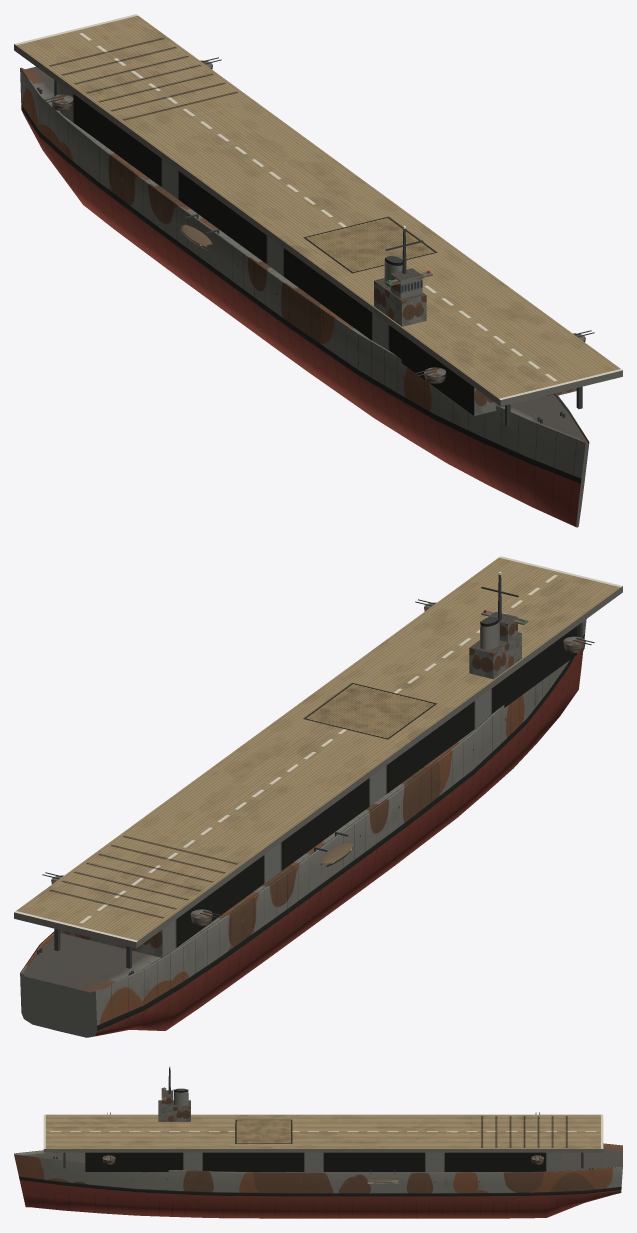
File: carrier.glb
3 renders of one model, top to bottom at view 1: azimuth 30°, elevation 25°; view 2: azimuth 150°, elevation 25°; view 3: azimuth 270°, elevation 25°, orthographic. The views are drawn at different scales.
Parts seen in each view (by area): view 1: hull, ascenseur; view 2: hull, ascenseur; view 3: hull, ascenseur.
Part boxes in pixels (x1=…): hull: x1=14, y1=14, x2=622, y2=527; ascenseur: x1=304, y1=217, x2=436, y2=273; hull: x1=14, y1=556, x2=622, y2=1037; ascenseur: x1=304, y1=683, x2=436, y2=739; hull: x1=14, y1=1066, x2=622, y2=1218; ascenseur: x1=236, y1=1120, x2=291, y2=1143.
Bounding box in the file's own units: 28.8 × 34.62 × 150.
Materials: 7 (6 with a texture image).
